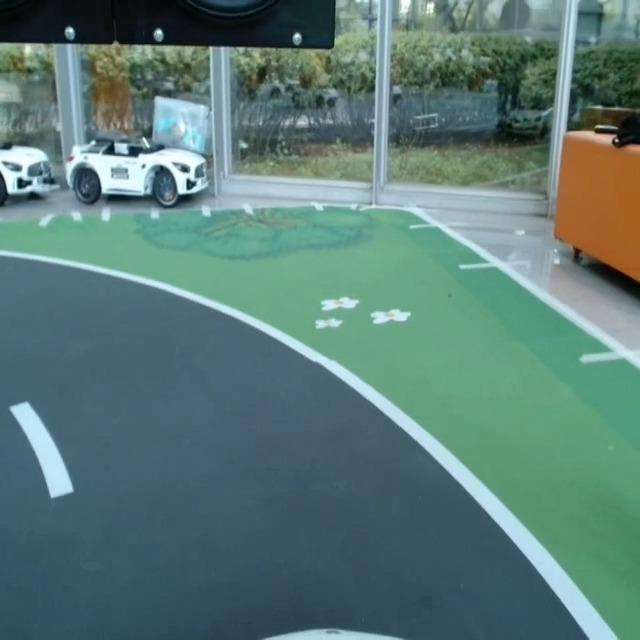traffic-light: (0, 0, 344, 56)
